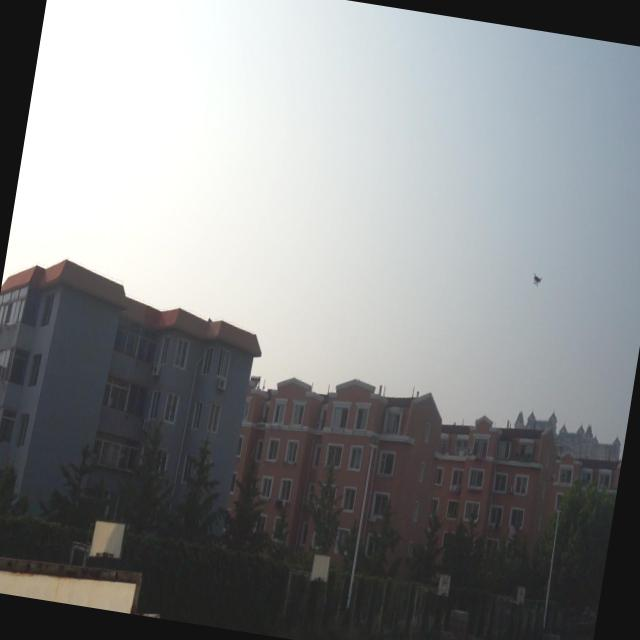drone: (530, 272, 544, 288)
